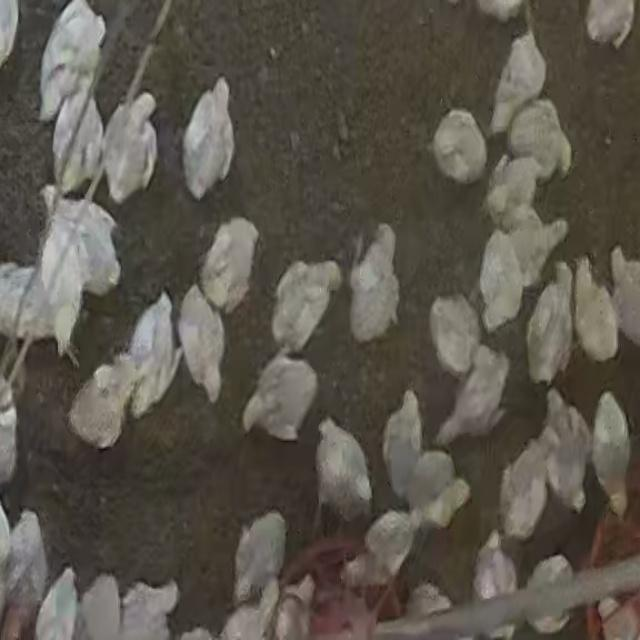chicken: (43, 194, 123, 306), (39, 2, 107, 126), (434, 341, 512, 446), (123, 290, 181, 420), (242, 350, 320, 444), (269, 258, 341, 356), (189, 214, 261, 311), (485, 201, 566, 287), (67, 356, 139, 452), (100, 91, 160, 206), (347, 222, 402, 346), (524, 260, 575, 389), (313, 416, 372, 526), (541, 391, 591, 519), (187, 70, 237, 195), (178, 281, 228, 405), (504, 100, 572, 187), (51, 87, 105, 195), (231, 508, 288, 608), (498, 436, 552, 540), (401, 450, 470, 529), (571, 255, 619, 368), (469, 531, 519, 638), (590, 388, 629, 517), (381, 390, 424, 504), (495, 30, 545, 125), (519, 551, 574, 637), (5, 506, 49, 610), (478, 232, 524, 331), (484, 155, 544, 230), (436, 110, 492, 190), (0, 261, 49, 350), (428, 292, 478, 377), (362, 509, 416, 585)
